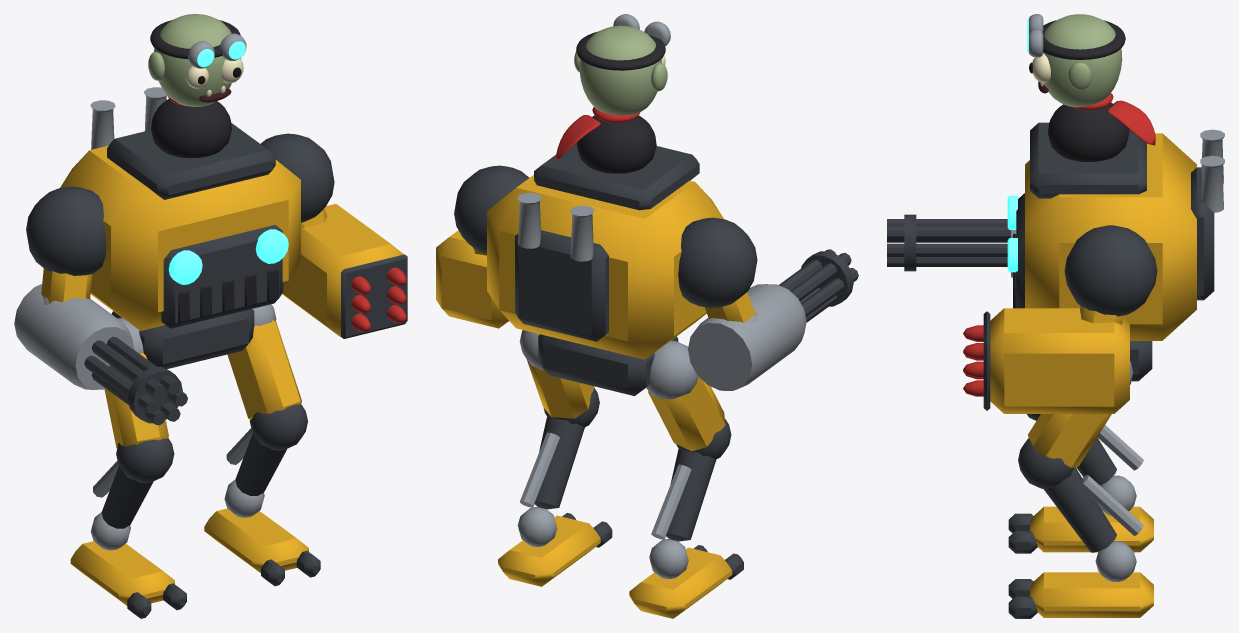
The model's file is z_mech.glb.
3 renders of one model, left to right at view 1: azimuth 30°, elevation 25°; view 2: azimuth 150°, elevation 25°; view 3: azimuth 270°, elevation 25°, orthographic. The views are drawn at different scales.
Visible parts, largest first — view 1: Torso, ArmR, ArmL, LegL, LegR, Pilot, Hips; view 2: Torso, ArmR, LegR, LegL, Pilot, ArmL, Hips; view 3: Torso, ArmL, LegL, Pilot, LegR, ArmR, Hips.
Boxes of the visible parts, x1,y1,x2,y2 form: Torso: (60, 87, 300, 330); ArmR: (14, 186, 187, 425); ArmL: (261, 133, 407, 338); LegL: (204, 304, 320, 586); LegR: (70, 317, 186, 618); Pilot: (148, 14, 246, 158); Hips: (111, 309, 254, 368); Torso: (487, 143, 723, 359); ArmR: (678, 217, 858, 390); LegR: (629, 340, 743, 618); LegL: (498, 330, 612, 586); Pilot: (556, 14, 670, 173); ArmL: (436, 165, 529, 328); Hips: (538, 334, 678, 395); Torso: (1007, 122, 1224, 340); ArmL: (963, 225, 1157, 413); LegL: (1008, 361, 1153, 618); Pilot: (1027, 14, 1155, 161); LegR: (1008, 414, 1153, 553); ArmR: (887, 214, 1016, 277); Hips: (1130, 341, 1152, 381).
Bounding box in the file's own units: 2.22 × 3.57 × 1.96.
